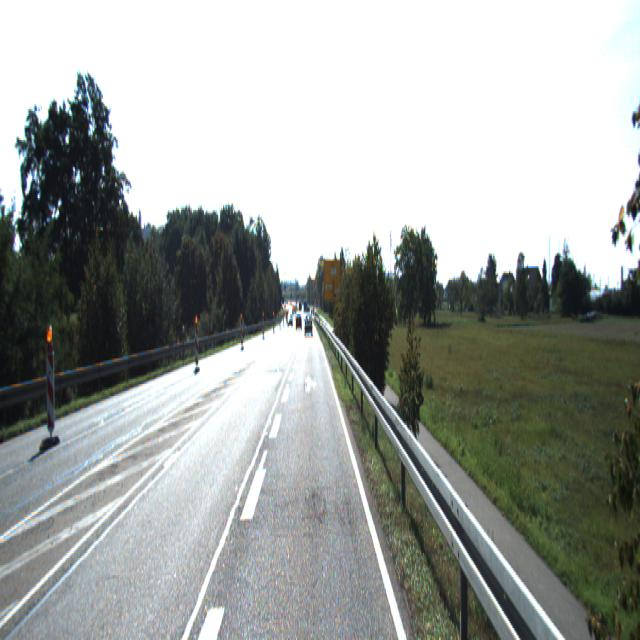Car: (304, 314, 312, 336)
